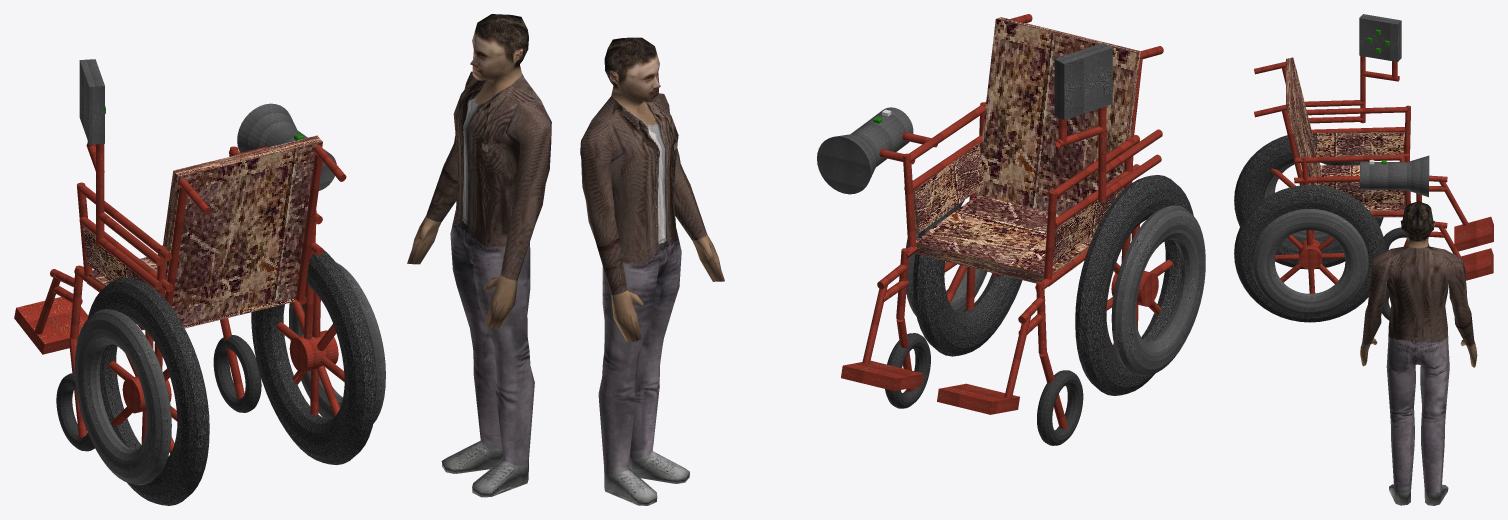
Rendered from clean_кресло 4 nohead.glb.
3 renders of one model, left to right at view 1: azimuth 30°, elevation 25°; view 2: azimuth 150°, elevation 25°; view 3: azimuth 270°, elevation 25°, orthographic. The views are drawn at different scales.
Parts seen in each view (by area): view 1: Character_04; view 2: Character_04; view 3: Character_04.
Part boxes in pixels (x1,y1,x2,y2): Character_04: (14,14,551,505); Character_04: (580,14,1205,505); Character_04: (1234,14,1493,505).
Size of the model in its own units: 10.3 by 10.34 by 7.09.
21 materials, 21 textured.
